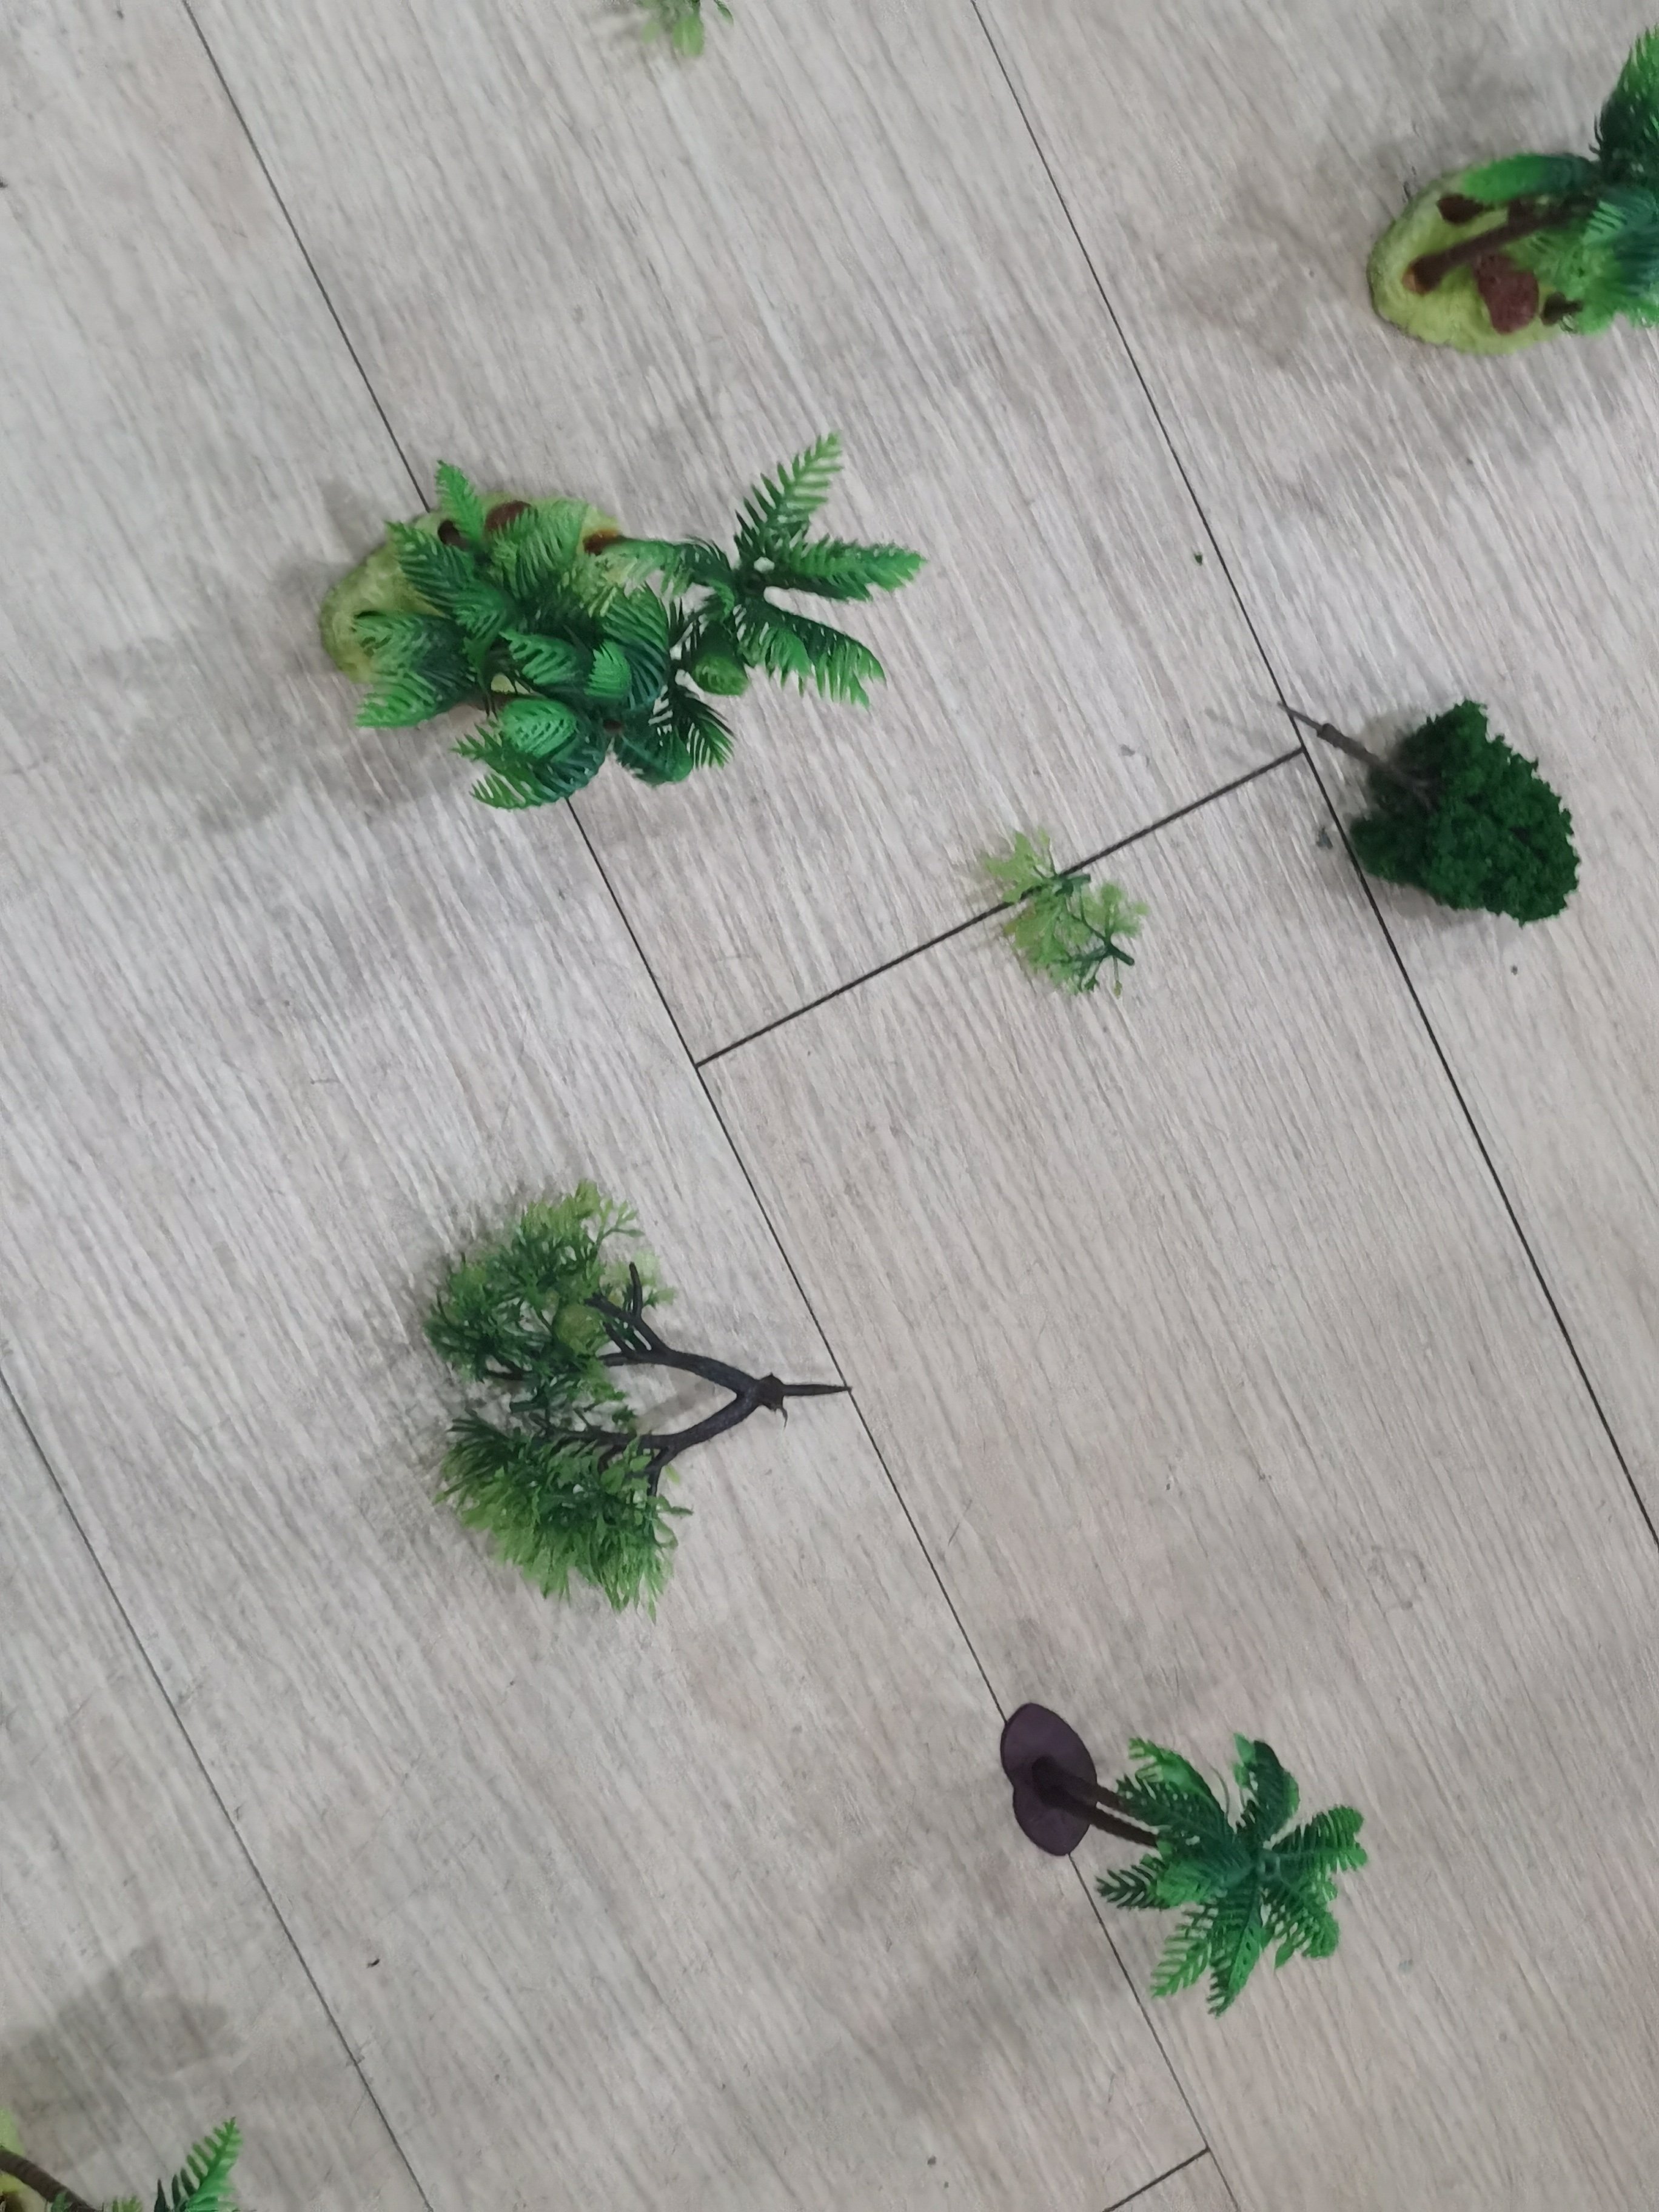corn: (296, 428, 931, 827), (999, 1684, 1377, 2022), (1370, 38, 1659, 361)
